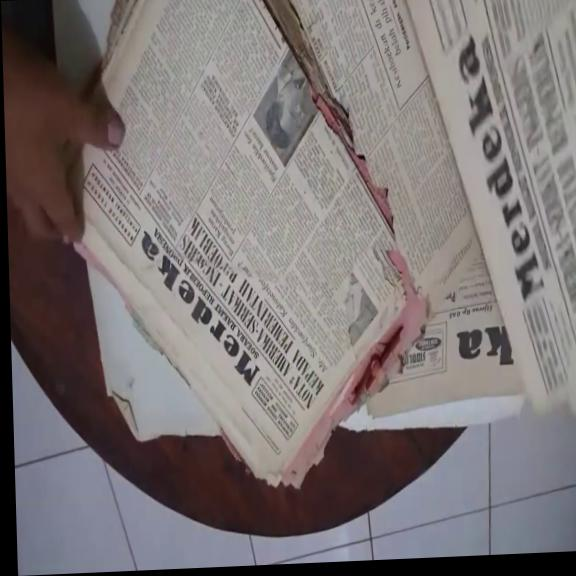Kertas: (75, 0, 424, 495), (287, 0, 524, 429)
